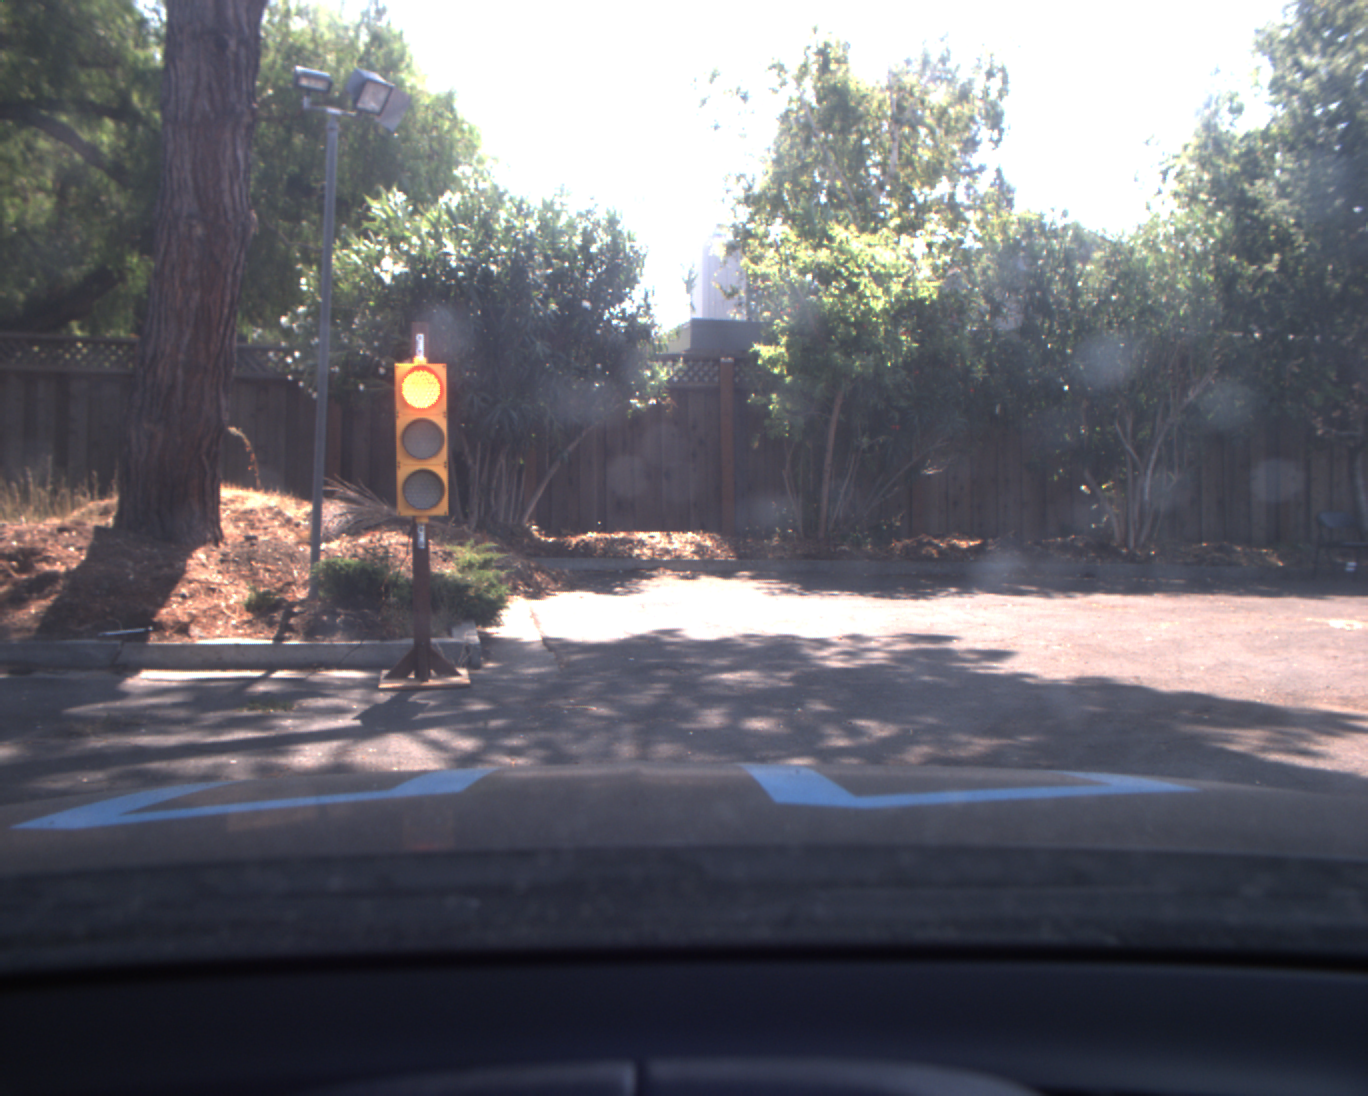red: (391, 356, 452, 517)
